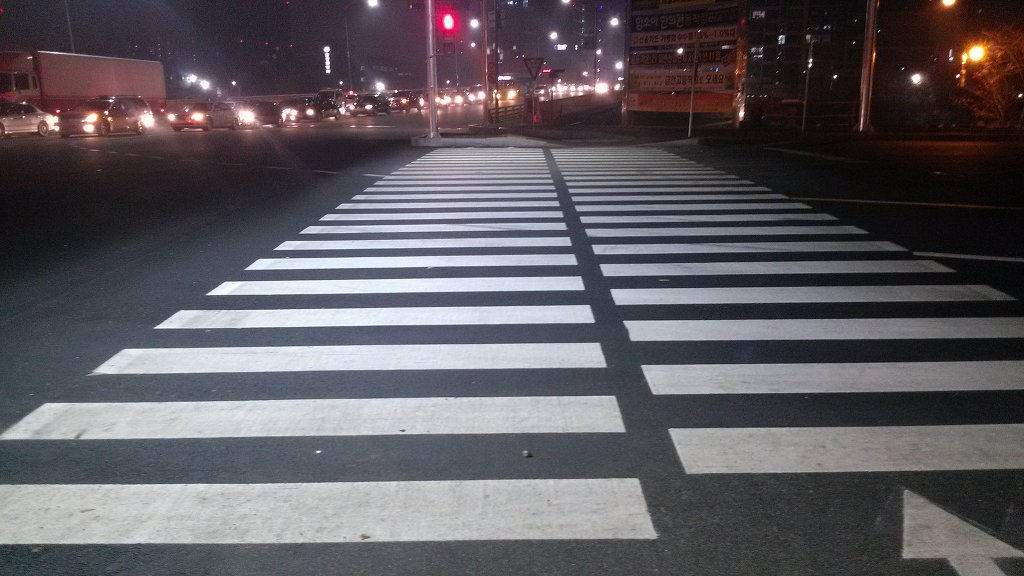traffic_light: (439, 11, 456, 42)
